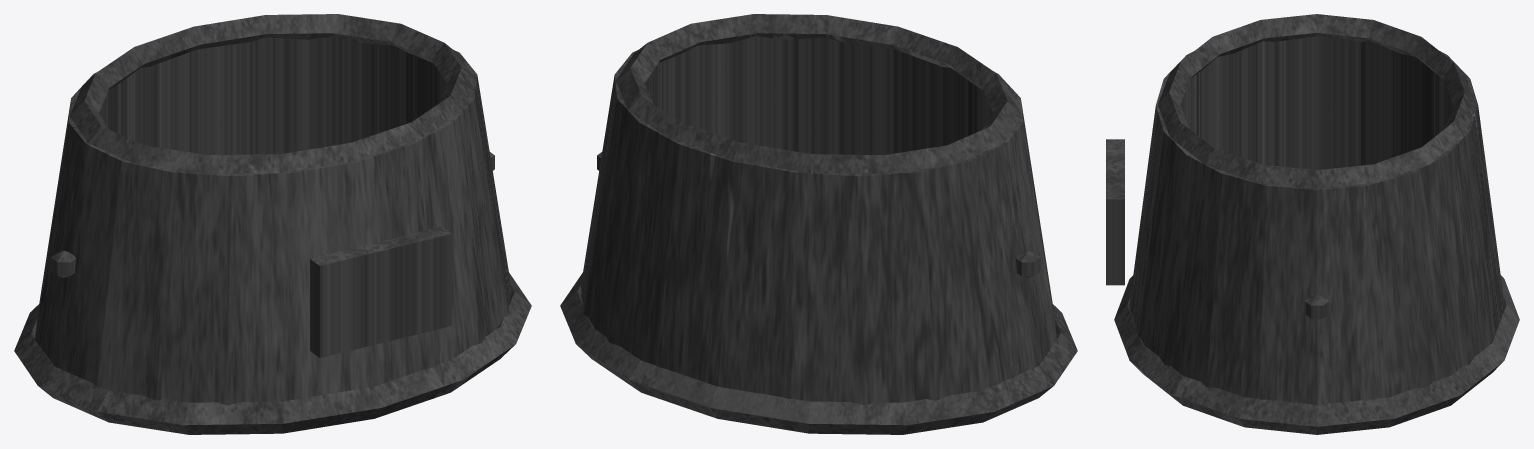
Rendered from gorget.fbx.
The picture shows the model from 3 angles, left to right: view 1: azimuth 30°, elevation 25°; view 2: azimuth 150°, elevation 25°; view 3: azimuth 270°, elevation 25°; orthographic projection. The views are drawn at different scales.
Visible parts, largest first — view 1: gorget; view 2: gorget; view 3: gorget.
Part boxes in pixels (box(x1,y1,x2,y2)): gorget: box(14, 14, 531, 434); gorget: box(560, 14, 1077, 434); gorget: box(1106, 14, 1519, 434).
Size of the model in its own units: 0.214 by 0.113 by 0.1746.
1 material, 1 textured.
